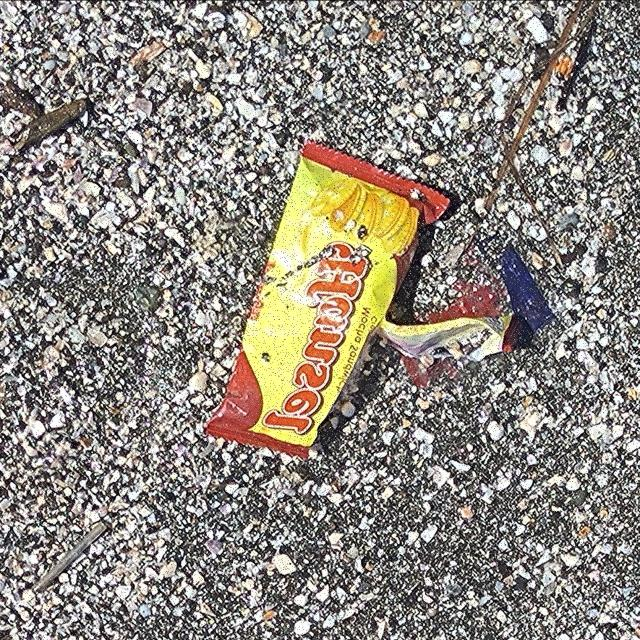plastic_waste: (205, 140, 525, 469)
